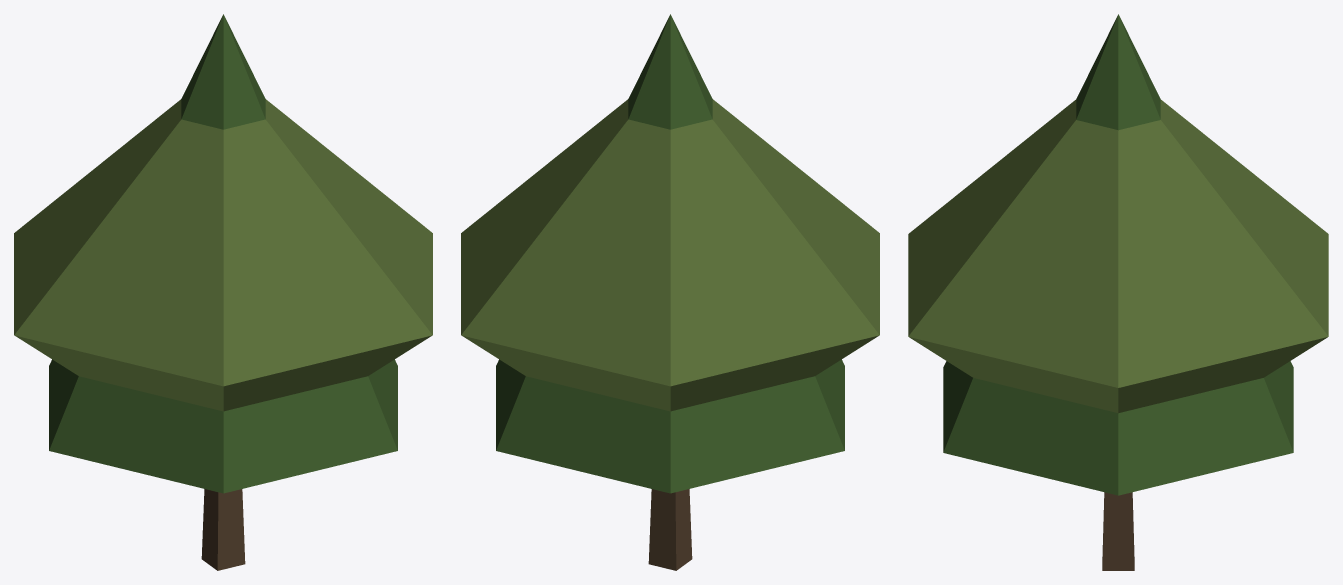
File: tree.glb
3 renders of one model, left to right at view 1: azimuth 30°, elevation 25°; view 2: azimuth 150°, elevation 25°; view 3: azimuth 270°, elevation 25°, orthographic.
Visible parts, largest first — view 1: tree_round, tree_cone; view 2: tree_round, tree_cone; view 3: tree_round, tree_cone.
Boxes of the visible parts, x1=… form: tree_round: x1=14, y1=99, x2=432, y2=411; tree_cone: x1=49, y1=14, x2=397, y2=570; tree_round: x1=461, y1=99, x2=879, y2=411; tree_cone: x1=496, y1=14, x2=844, y2=570; tree_round: x1=908, y1=99, x2=1328, y2=413; tree_cone: x1=943, y1=14, x2=1293, y2=570.
Bounding box in the file's own units: 6 × 7.5 × 5.2.
